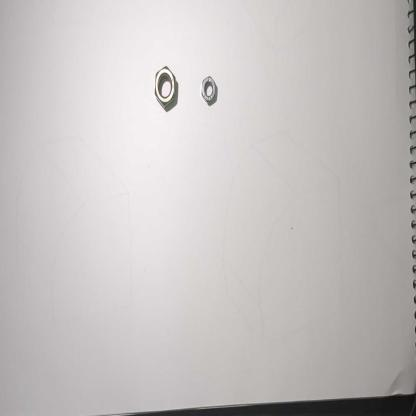NUTS: (152, 60, 178, 112), (198, 68, 220, 108)
